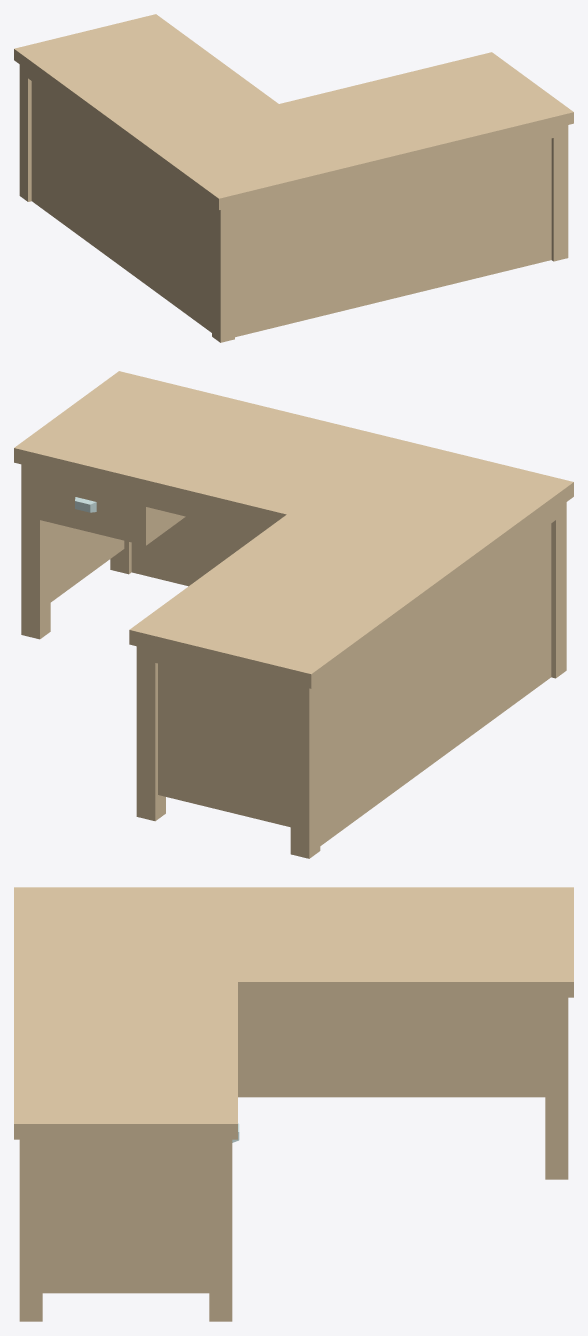
Rendered from deskCorner.glb.
3 views of the same model, one above another, from view 1: azimuth 30°, elevation 25°; view 2: azimuth 150°, elevation 25°; view 3: azimuth 270°, elevation 25° (orthographic). The views are drawn at different scales.
Parts seen in each view (by area): view 1: deskCorner; view 2: deskCorner; view 3: deskCorner.
Part boxes in pixels (box(x1,y1,x2,y2)): deskCorner: box(14, 14, 573, 342); deskCorner: box(14, 371, 573, 858); deskCorner: box(14, 887, 573, 1321).
Size of the model in its own units: 9.74 by 3.84 by 9.74.
